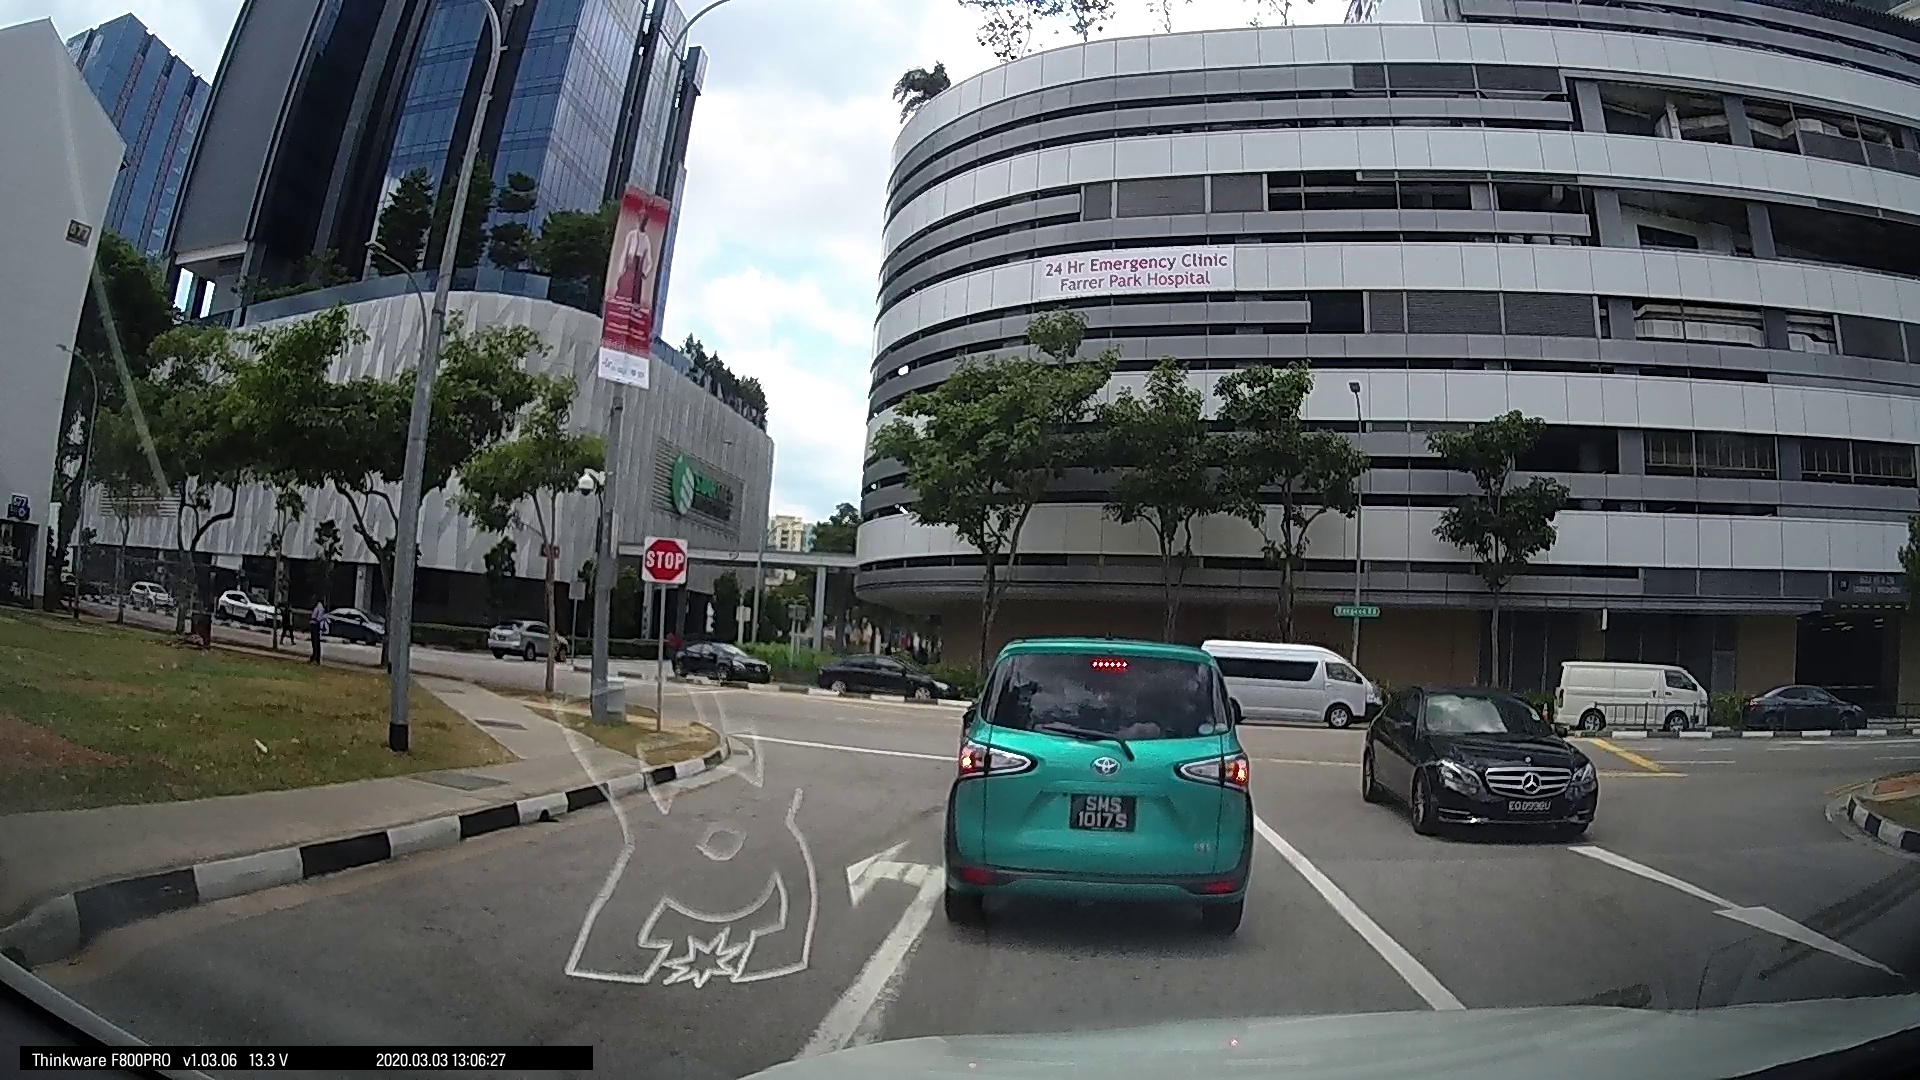Light Vehicle: (938, 618, 1261, 939), (1356, 676, 1596, 844), (1193, 640, 1378, 735), (1547, 653, 1709, 735), (1742, 678, 1866, 737), (665, 632, 775, 684), (477, 612, 567, 662)
